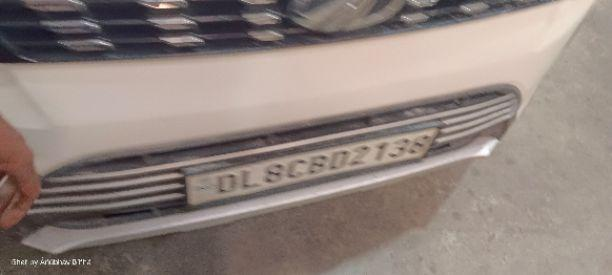license_plate: (0, 0, 597, 254), (182, 125, 441, 207)
